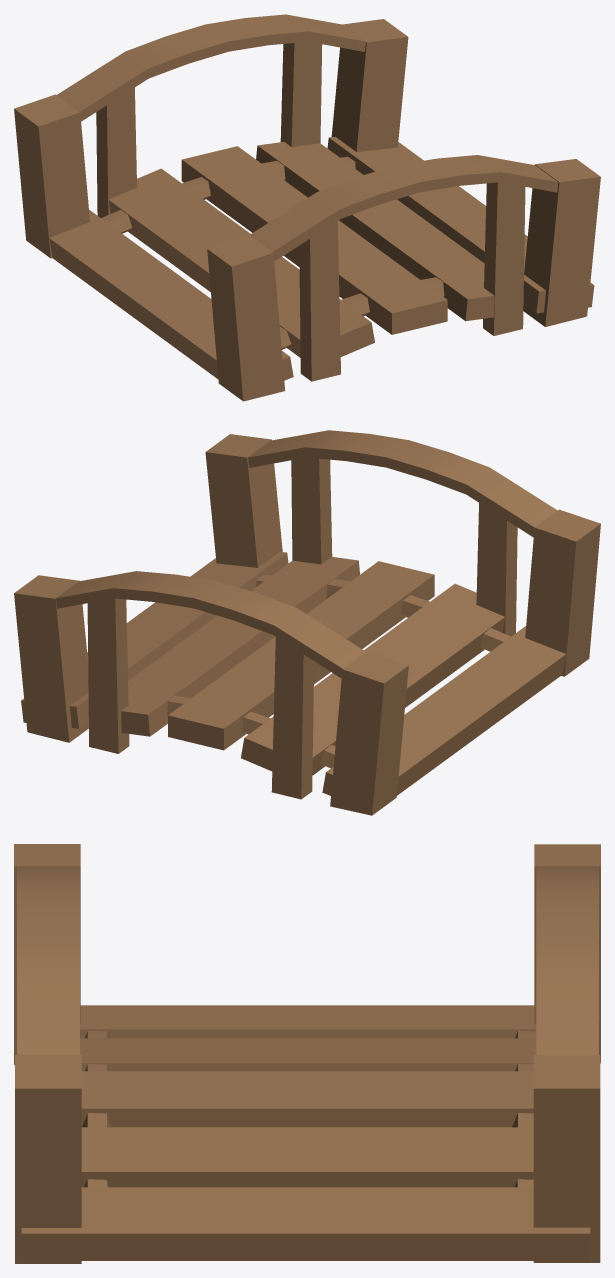
The model's file is SM_Bridge_JG (2).fbx.
3 renders of one model, top to bottom at view 1: azimuth 30°, elevation 25°; view 2: azimuth 150°, elevation 25°; view 3: azimuth 270°, elevation 25°, orthographic. The views are drawn at different scales.
Visible parts, largest first — view 1: Bridge; view 2: Bridge; view 3: Bridge.
Boxes of the visible parts, <box> form: Bridge: <box>14,14,600,401</box>; Bridge: <box>14,430,600,815</box>; Bridge: <box>14,844,600,1263</box>.
Bounding box in the file's own units: 0.8957 × 0.405 × 0.909.
